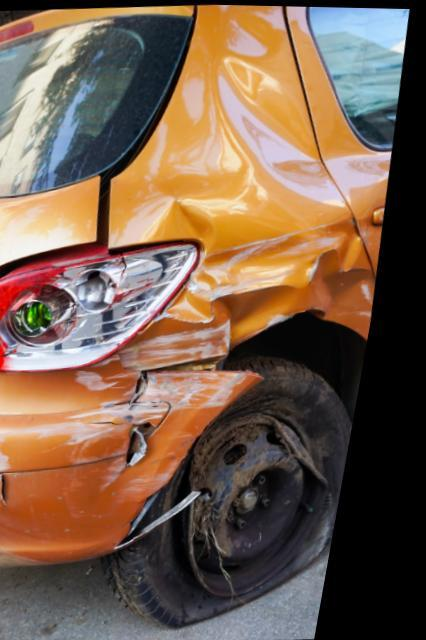crack: (101, 419, 177, 466), (126, 371, 163, 406), (0, 472, 25, 505)
dent: (135, 197, 386, 366), (219, 62, 348, 201)
lamp broken: (0, 237, 210, 371)
scratch: (0, 412, 201, 517), (87, 369, 261, 421)
tire flat: (119, 350, 368, 627)
